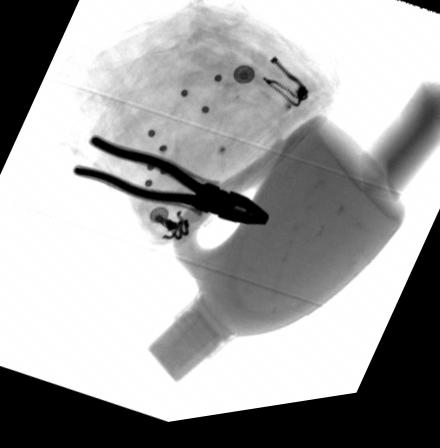Pliers: (70, 136, 270, 234)
